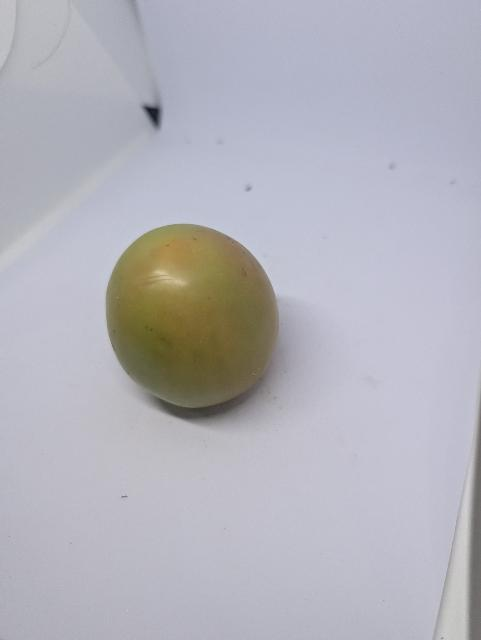breaker: (101, 223, 282, 411)
